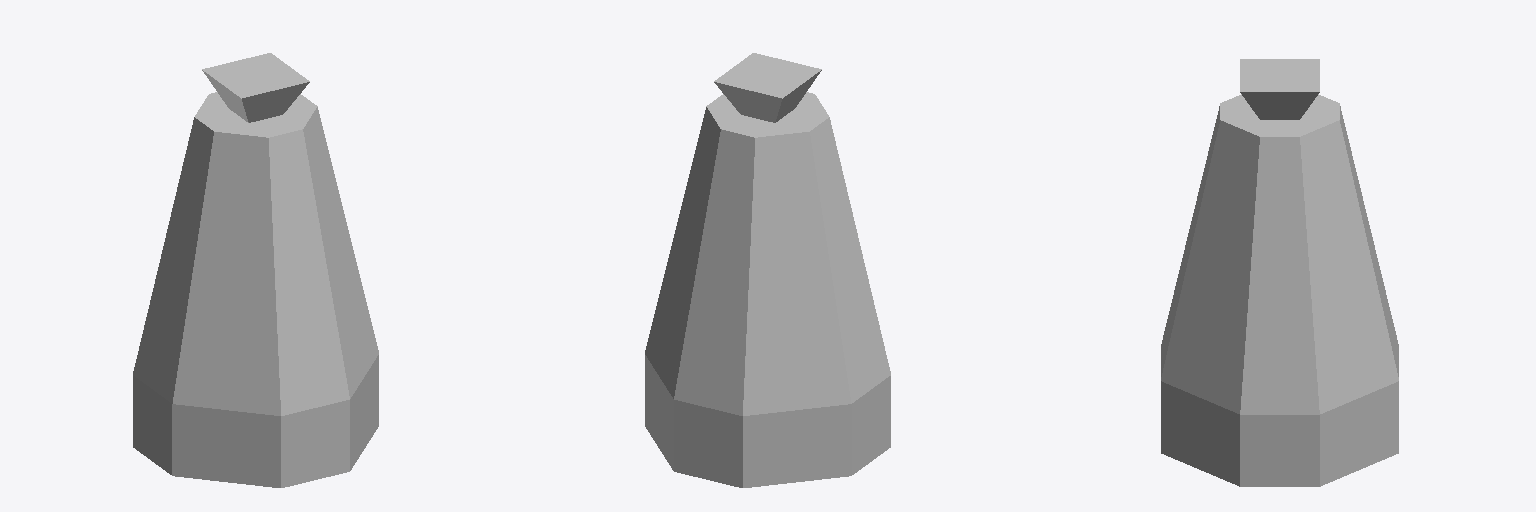
The model's file is blast_furnace_multiblock.obj.
3 renders of one model, left to right at view 1: azimuth 30°, elevation 25°; view 2: azimuth 150°, elevation 25°; view 3: azimuth 270°, elevation 25°, orthographic.
Parts seen in each view (by area): view 1: Cube.001_Cube.002; view 2: Cube.001_Cube.002; view 3: Cube.001_Cube.002.
Part boxes in pixels (bbox=[...]): Cube.001_Cube.002: bbox=[133, 53, 378, 487]; Cube.001_Cube.002: bbox=[645, 53, 890, 487]; Cube.001_Cube.002: bbox=[1161, 59, 1398, 486].
Bounding box in the file's own units: 3 × 5 × 3.